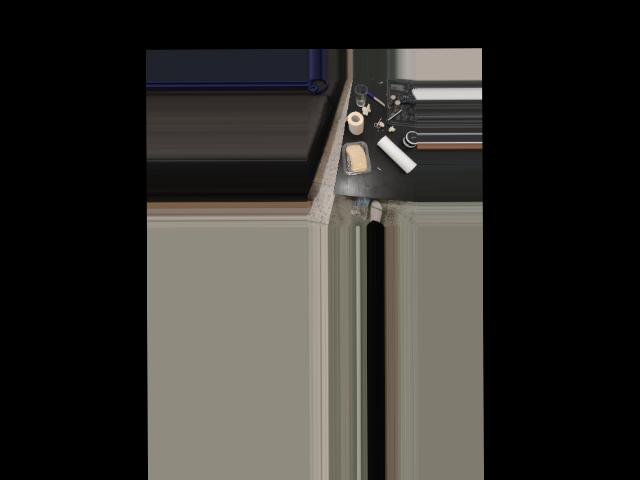cheese: (340, 140, 372, 178)
